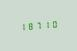eight: (26, 21, 33, 31)
one: (18, 21, 25, 32), (42, 19, 49, 30)
seven: (34, 20, 41, 30)
zero: (50, 18, 57, 29)
